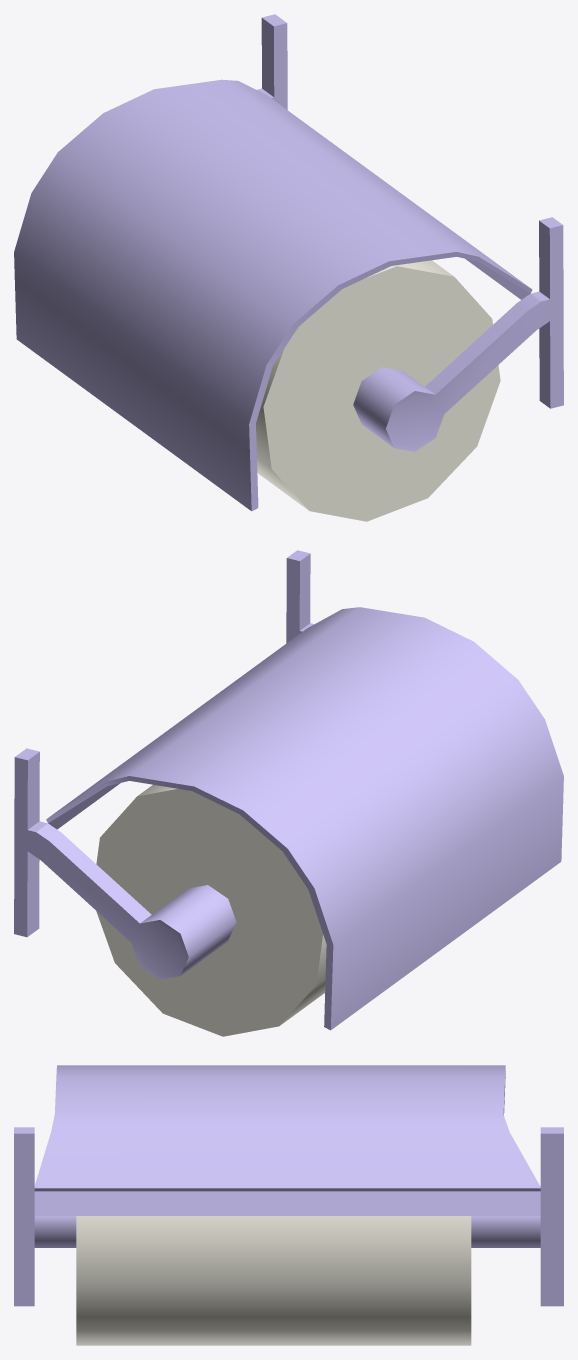
Rendered from ToiletPaper.fbx.
3 views of the same model, one above another, from view 1: azimuth 30°, elevation 25°; view 2: azimuth 150°, elevation 25°; view 3: azimuth 270°, elevation 25° (orthographic). The views are drawn at different scales.
Visible parts, largest first — view 1: ToiletPaper; view 2: ToiletPaper; view 3: ToiletPaper.
Boxes of the visible parts, <box> form: ToiletPaper: <box>14,14,563,521</box>; ToiletPaper: <box>14,550,563,1036</box>; ToiletPaper: <box>14,1065,563,1345</box>.
Size of the model in its own units: 20.7 by 35.18 by 18.9.
